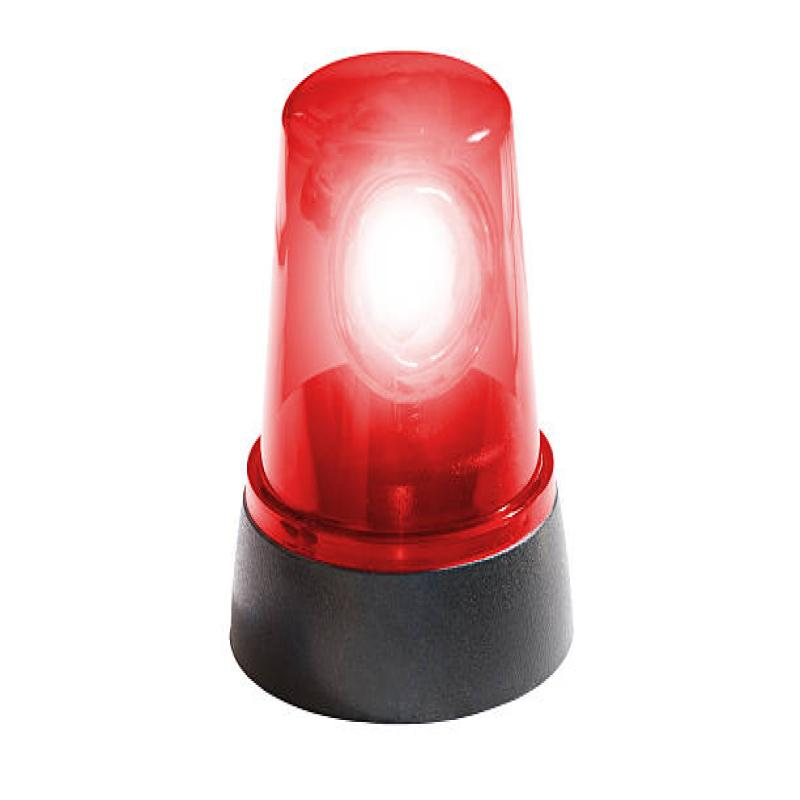AmbulanceSiren: (222, 71, 576, 742)
